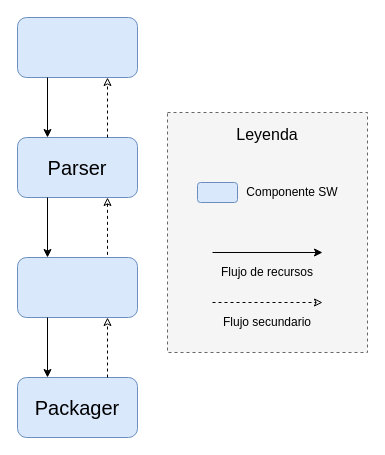
The diagram is 385 pixels wide and 455 high, and some of its shapes have lost their labels. The shapes that lost their labels are listed below. From the top down, each one's centre as x and y in pixels, then its label:
At (x=77, y=47): "Provider".
At (x=77, y=287): "Mapper".
